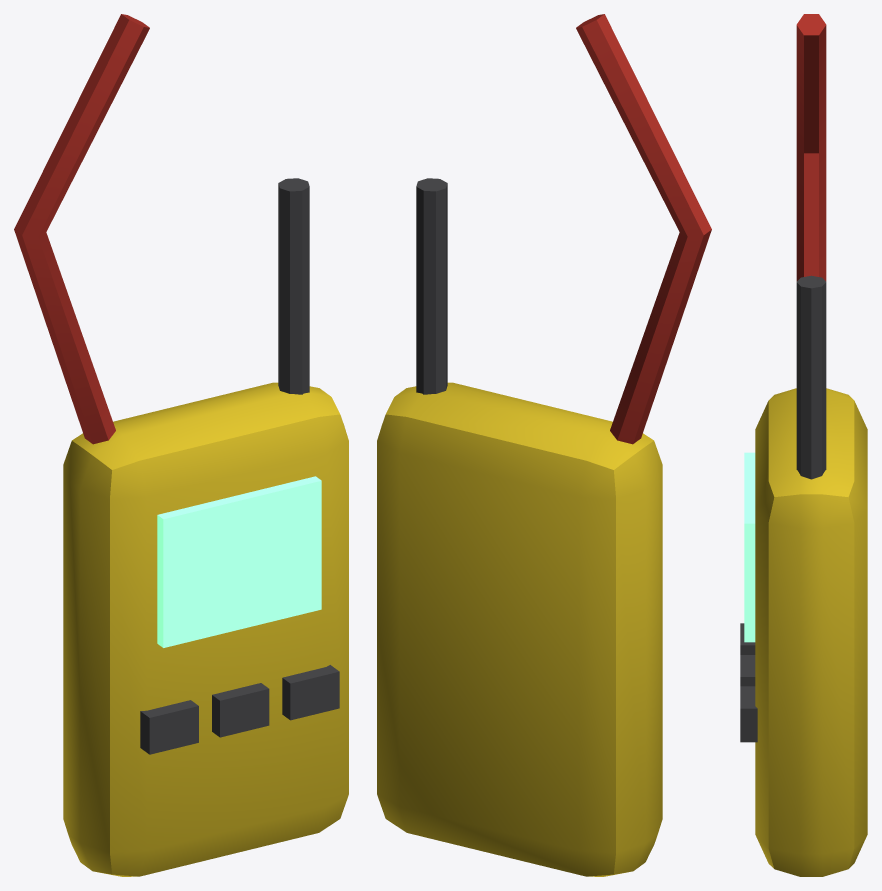
The model's file is beacon.glb.
3 renders of one model, left to right at view 1: azimuth 30°, elevation 25°; view 2: azimuth 150°, elevation 25°; view 3: azimuth 270°, elevation 25°, orthographic. The views are drawn at different scales.
Visible parts, largest first — view 1: beacon; view 2: beacon; view 3: beacon.
Boxes of the visible parts, box(x1,y1,x2,y2) form: beacon: box(14, 14, 348, 876); beacon: box(377, 14, 711, 876); beacon: box(740, 14, 867, 876).
Bounding box in the file's own units: 0.0909 × 0.2318 × 0.034.
